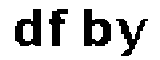b: (80, 7, 112, 49)
d: (12, 5, 44, 50)
f: (48, 6, 72, 48)
y: (114, 13, 148, 60)
